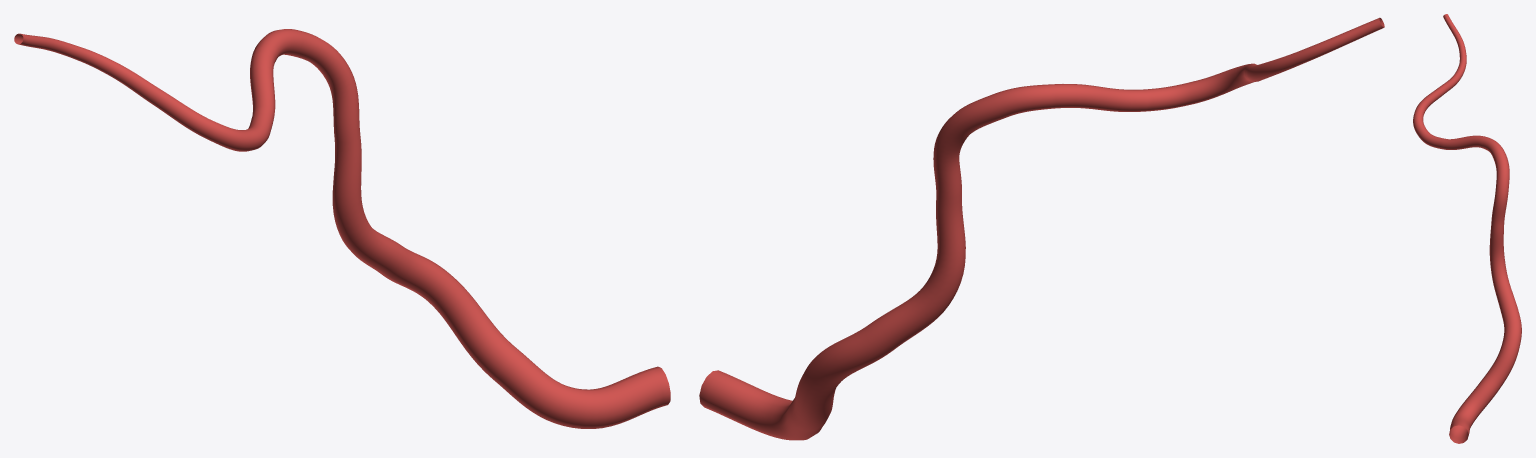
3 renders of one model, left to right at view 1: azimuth 30°, elevation 25°; view 2: azimuth 150°, elevation 25°; view 3: azimuth 270°, elevation 25°, orthographic. The views are drawn at different scales.
Visible parts, largest first — view 1: 右侧小脑下前动脉; view 2: 右侧小脑下前动脉; view 3: 右侧小脑下前动脉.
Boxes of the visible parts, <box> form: 右侧小脑下前动脉: <box>14,29,670,428</box>; 右侧小脑下前动脉: <box>699,17,1384,440</box>; 右侧小脑下前动脉: <box>1413,14,1521,443</box>.
Bounding box in the file's own units: 0.0509 × 0.0403 × 0.0145.
